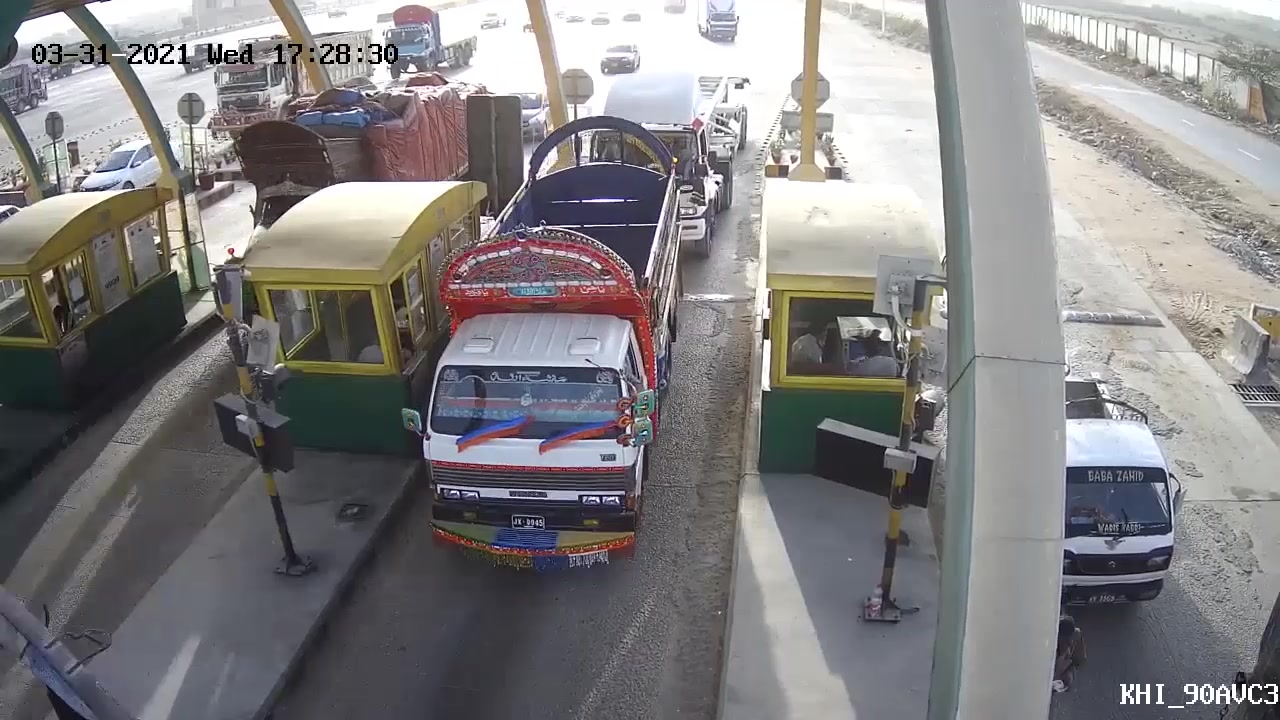F5: (407, 119, 679, 569)
